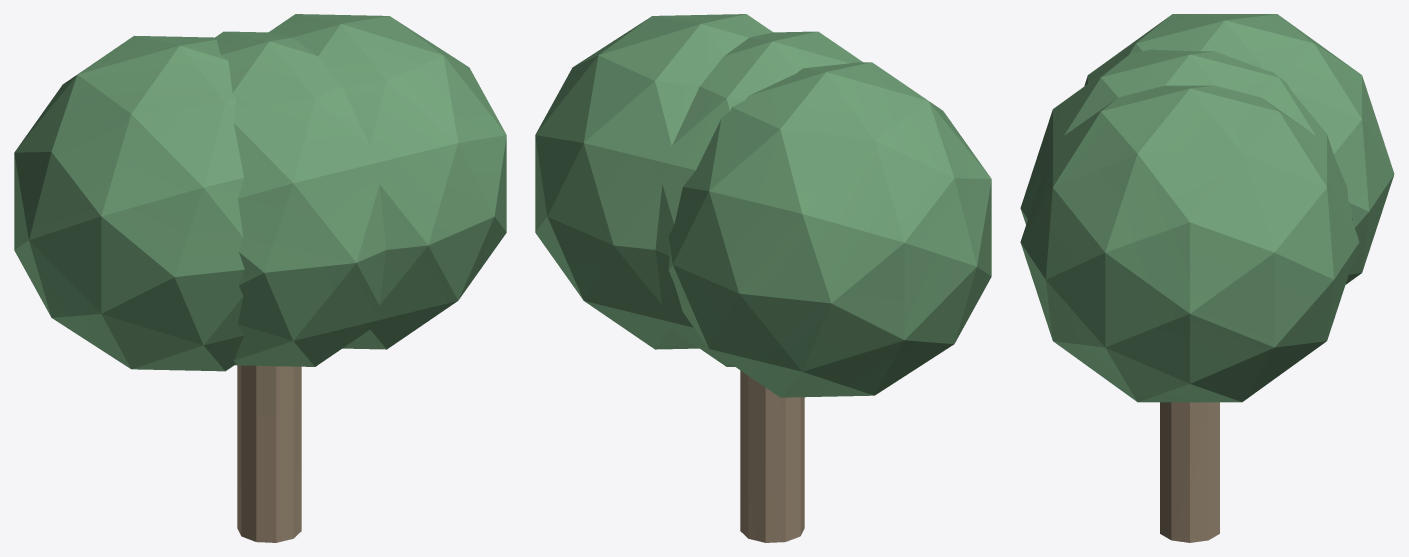
Rendered from broadleaf-06.glb.
3 renders of one model, left to right at view 1: azimuth 30°, elevation 25°; view 2: azimuth 150°, elevation 25°; view 3: azimuth 270°, elevation 25°, orthographic. The views are drawn at different scales.
Visible parts, largest first — view 1: world; view 2: world; view 3: world.
Boxes of the visible parts, <box> form: world: <box>14,14,506,542</box>; world: <box>535,14,991,542</box>; world: <box>1020,14,1394,542</box>.
Size of the model in its own units: 1.43 by 1.5 by 1.07.
